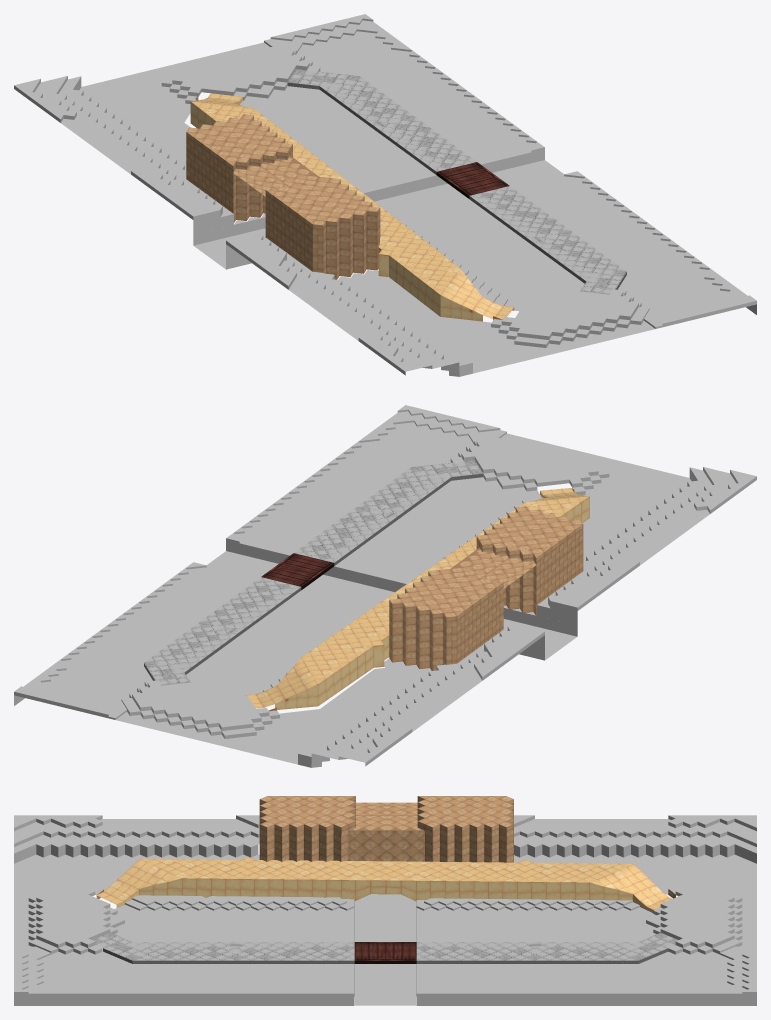
The model's file is Terrian2.FBX.
The picture shows the model from 3 angles, top to bottom: view 1: azimuth 30°, elevation 25°; view 2: azimuth 150°, elevation 25°; view 3: azimuth 270°, elevation 25°; orthographic projection. The views are drawn at different scales.
Parts seen in each view (by area): view 1: Object002, Brigde001, Object008, WaterFullStoneL, WaterFullStoneR, waterfull; view 2: Object002, Brigde001, Object008, WaterFullStoneR, WaterFullStoneL, waterfull; view 3: Object002, Object008, Brigde001, WaterFullStoneR, WaterFullStoneL, waterfull.
Part boxes in pixels (x1=…): Object002: x1=14, y1=14, x2=756, y2=376; Brigde001: x1=287, y1=69, x2=626, y2=294; Object008: x1=190, y1=93, x2=514, y2=321; WaterFullStoneL: x1=265, y1=177, x2=380, y2=279; WaterFullStoneR: x1=186, y1=114, x2=292, y2=222; waterfull: x1=195, y1=97, x2=502, y2=319; Object002: x1=14, y1=405, x2=756, y2=767; Brigde001: x1=144, y1=460, x2=483, y2=685; Object008: x1=245, y1=488, x2=589, y2=709; WaterFullStoneR: x1=389, y1=569, x2=503, y2=670; WaterFullStoneL: x1=476, y1=506, x2=583, y2=616; waterfull: x1=268, y1=488, x2=574, y2=711; Object002: x1=14, y1=815, x2=756, y2=1005; Object008: x1=96, y1=856, x2=671, y2=912; Brigde001: x1=92, y1=932, x2=678, y2=963; WaterFullStoneR: x1=417, y1=796, x2=513, y2=862; WaterFullStoneL: x1=259, y1=796, x2=355, y2=861; waterfull: x1=96, y1=802, x2=675, y2=898.
Bounding box in the file's own units: 4122 × 777 × 7955.
